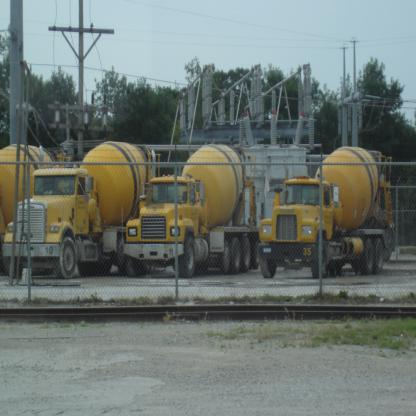Truck: (1, 140, 162, 279), (117, 142, 261, 278), (258, 146, 389, 278), (0, 144, 54, 272)
